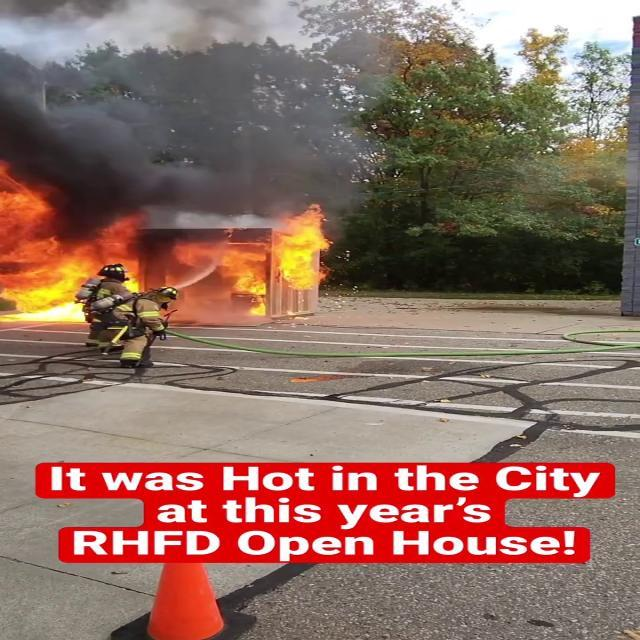Fire: (2, 210, 340, 320)
Smoke: (1, 0, 395, 218)
